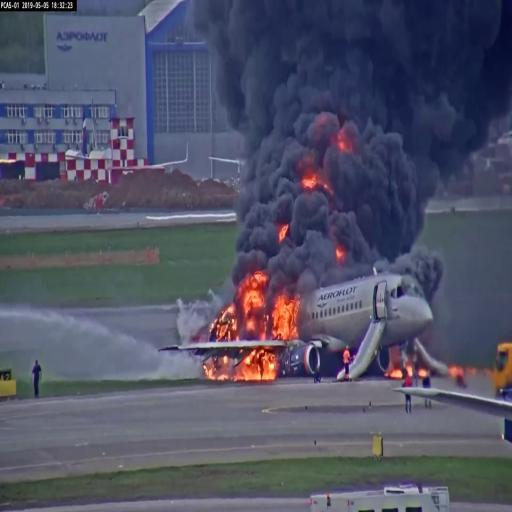fire: (236, 269, 262, 334), (274, 295, 303, 336), (239, 357, 274, 383)
smoke: (217, 0, 504, 152), (203, 0, 377, 129), (235, 126, 334, 282), (339, 129, 431, 255)
